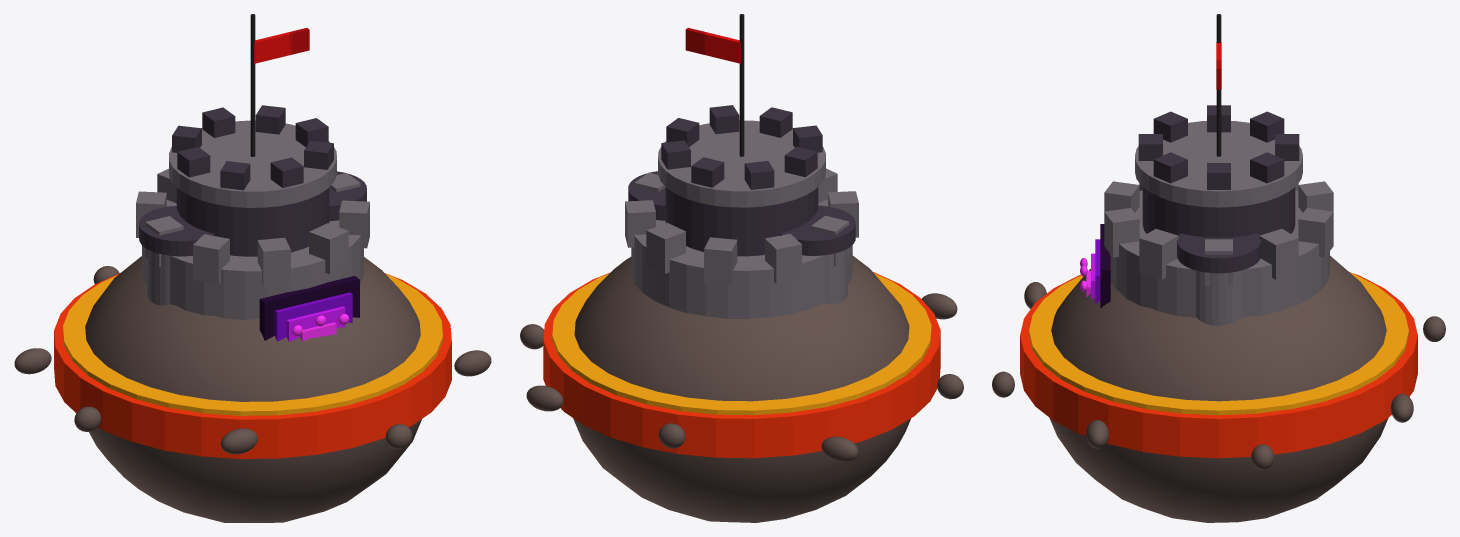
Rendered from planeta_castillo_lava_optimizado.obj.
3 views of the same model, side by side, from view 1: azimuth 30°, elevation 25°; view 2: azimuth 150°, elevation 25°; view 3: azimuth 270°, elevation 25° (orthographic).
Parts seen in each view (by area): view 1: Planeta_Roca, Plataforma_Lava_Curva, Lava_Superior, Corona_Central, Fortaleza_Base, Fortaleza_Superior, Portal_Exterior, Corona_Izquierda, Almena_Inferior_09, Almena_Inferior_07, Almena_Inferior_08, Portal_Medio (+20 smaller); view 2: Planeta_Roca, Plataforma_Lava_Curva, Fortaleza_Base, Lava_Superior, Corona_Central, Fortaleza_Superior, Corona_Izquierda, Almena_Inferior_03, Almena_Inferior_05, Almena_Inferior_04, Torre_Izquierda, Almena_Inferior_02 (+18 smaller); view 3: Planeta_Roca, Plataforma_Lava_Curva, Lava_Superior, Fortaleza_Base, Corona_Central, Fortaleza_Superior, Corona_Derecha, Torre_Derecha, Almena_Inferior_02, Almena_Inferior_10, Almena_Inferior_03, Almena_Inferior_09 (+15 smaller).
Part boxes in pixels (x1=…): Planeta_Roca: x1=85, y1=256, x2=421, y2=522; Plataforma_Lava_Curva: x1=54, y1=273, x2=451, y2=458; Lava_Superior: x1=63, y1=274, x2=442, y2=415; Corona_Central: x1=169, y1=120, x2=336, y2=207; Fortaleza_Base: x1=142, y1=200, x2=363, y2=319; Fortaleza_Superior: x1=176, y1=187, x2=329, y2=256; Portal_Exterior: x1=259, y1=276, x2=359, y2=340; Corona_Izquierda: x1=139, y1=206, x2=214, y2=256; Almena_Inferior_09: x1=309, y1=223, x2=348, y2=274; Almena_Inferior_07: x1=193, y1=234, x2=229, y2=284; Almena_Inferior_08: x1=257, y1=237, x2=290, y2=286; Portal_Medio: x1=274, y1=292, x2=352, y2=341; Planeta_Roca: x1=573, y1=256, x2=910, y2=522; Plataforma_Lava_Curva: x1=543, y1=272, x2=940, y2=458; Fortaleza_Base: x1=631, y1=199, x2=852, y2=318; Lava_Superior: x1=552, y1=273, x2=931, y2=415; Corona_Central: x1=658, y1=120, x2=825, y2=207; Fortaleza_Superior: x1=665, y1=187, x2=818, y2=256; Corona_Izquierda: x1=779, y1=205, x2=855, y2=255; Almena_Inferior_03: x1=646, y1=222, x2=685, y2=273; Almena_Inferior_05: x1=765, y1=233, x2=801, y2=283; Almena_Inferior_04: x1=704, y1=237, x2=737, y2=285; Torre_Izquierda: x1=803, y1=249, x2=847, y2=303; Almena_Inferior_02: x1=625, y1=200, x2=655, y2=247; Planeta_Roca: x1=1049, y1=256, x2=1388, y2=522; Plataforma_Lava_Curva: x1=1020, y1=272, x2=1417, y2=458; Lava_Superior: x1=1029, y1=272, x2=1408, y2=415; Fortaleza_Base: x1=1109, y1=190, x2=1329, y2=317; Corona_Central: x1=1135, y1=121, x2=1302, y2=207; Fortaleza_Superior: x1=1142, y1=187, x2=1295, y2=237; Corona_Derecha: x1=1177, y1=233, x2=1260, y2=273; Torre_Derecha: x1=1196, y1=270, x2=1241, y2=325; Almena_Inferior_02: x1=1259, y1=229, x2=1298, y2=279; Almena_Inferior_10: x1=1139, y1=229, x2=1178, y2=279; Almena_Inferior_03: x1=1298, y1=208, x2=1333, y2=257; Almena_Inferior_09: x1=1104, y1=208, x2=1139, y2=257.
Bounding box in the file's own units: 7.2 × 8.45 × 7.12.
